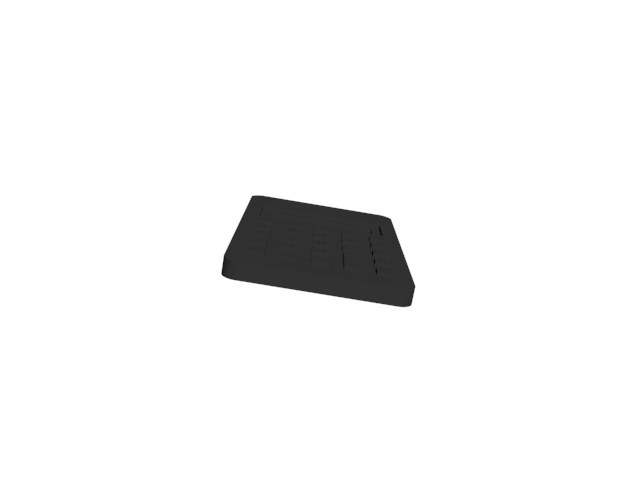calculator: (217, 193, 416, 312)
